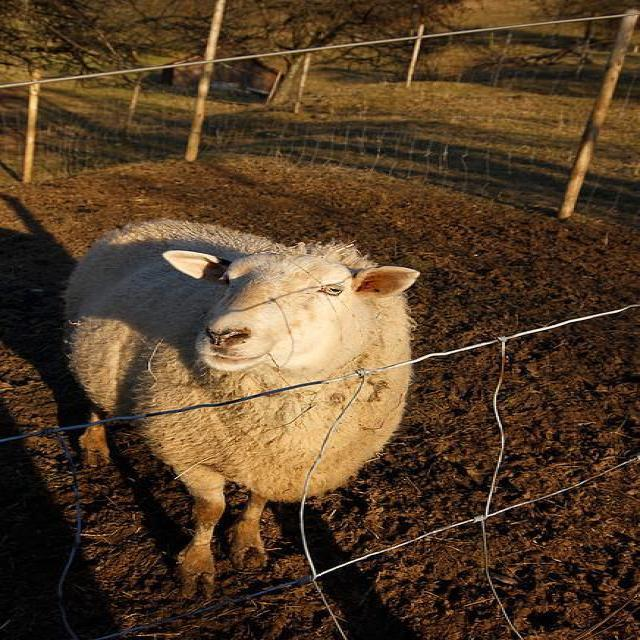Sheep: (74, 219, 422, 597)
